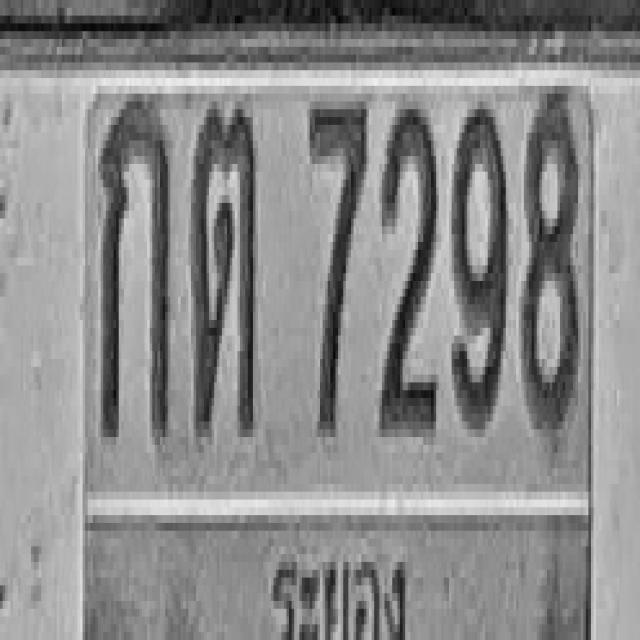10GorGai: (99, 98, 169, 441)
2: (378, 98, 437, 433)
30TorTao: (192, 102, 257, 437)
7: (308, 98, 368, 433)
8: (521, 90, 578, 433)
9: (452, 98, 506, 426)
Rayong: (259, 524, 418, 640)
